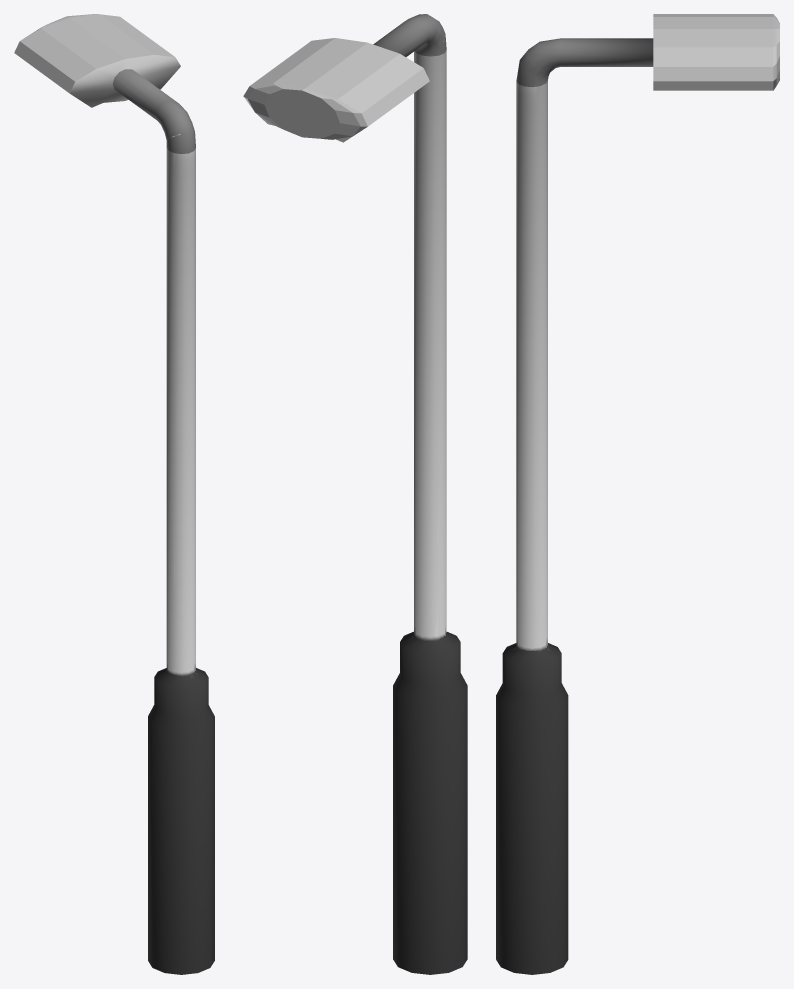
File: Poste.1.fbx
The picture shows the model from 3 angles, left to right: view 1: azimuth 30°, elevation 25°; view 2: azimuth 150°, elevation 25°; view 3: azimuth 270°, elevation 25°; orthographic projection. The views are drawn at different scales.
Visible parts, largest first — view 1: Cylinder; view 2: Cylinder; view 3: Cylinder.
Part boxes in pixels (box(x1,y1,x2,y2)): Cylinder: box(14, 14, 214, 974); Cylinder: box(243, 14, 467, 974); Cylinder: box(496, 14, 779, 974).
Bounding box in the file's own units: 144 × 1066 × 295.
Materials: 1 (1 with a texture image).
